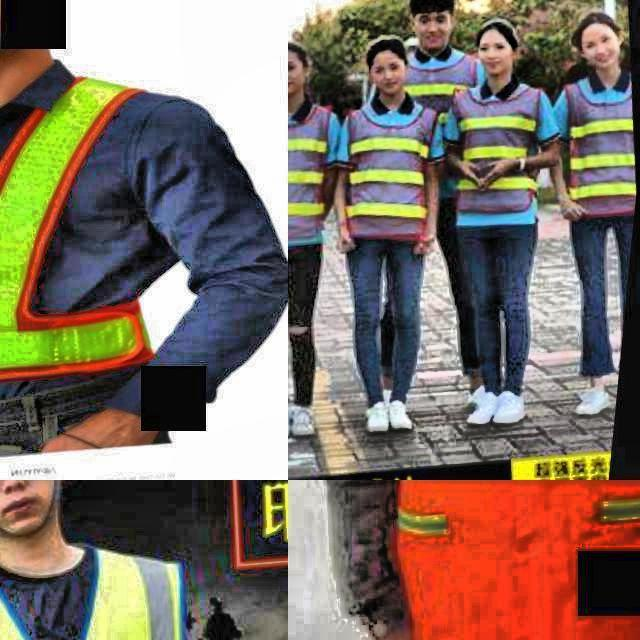safety_jacket: (0, 64, 196, 431), (336, 480, 640, 640), (0, 530, 221, 640), (441, 82, 561, 226), (328, 111, 446, 235), (555, 78, 640, 231), (288, 114, 345, 235)
